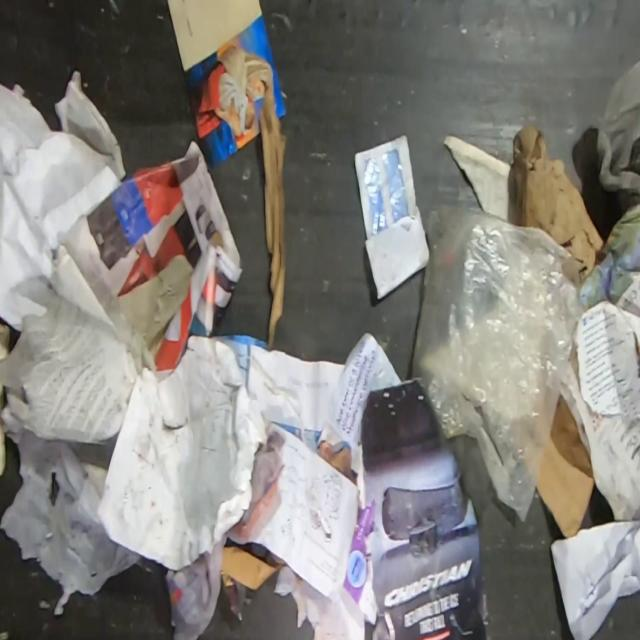cardboard: (512, 122, 603, 273), (532, 392, 595, 538)
soft_plastic: (408, 209, 590, 522), (598, 62, 640, 198)
